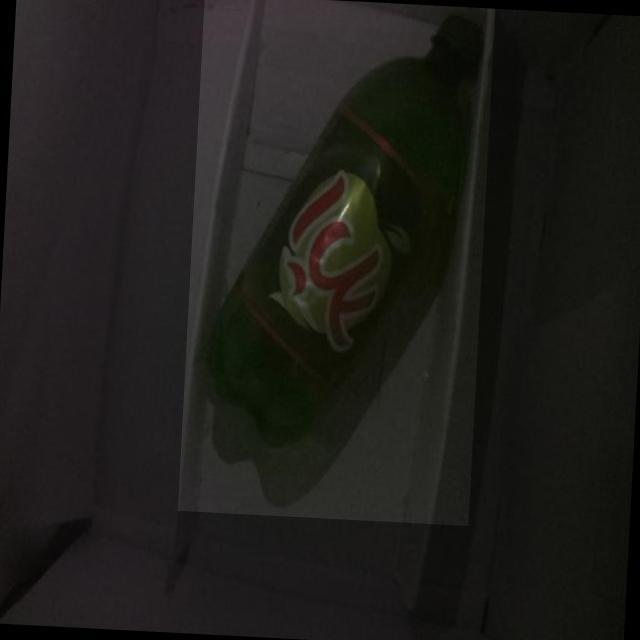good: (177, 0, 495, 526)
